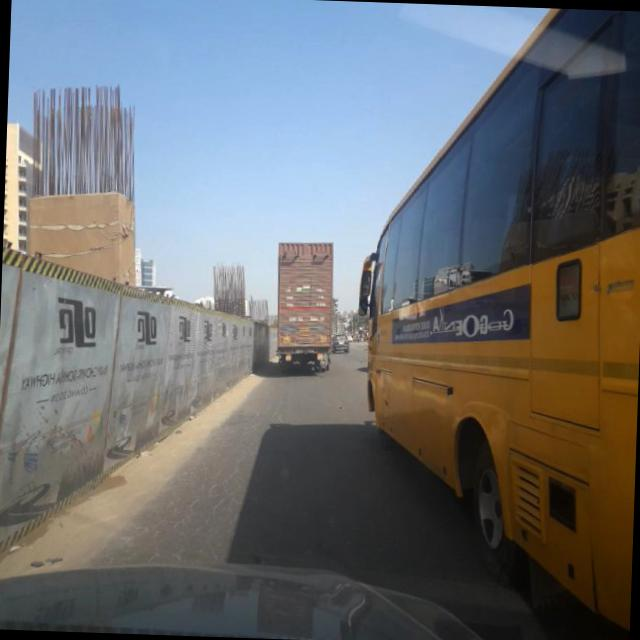crack: (102, 376, 362, 568)
